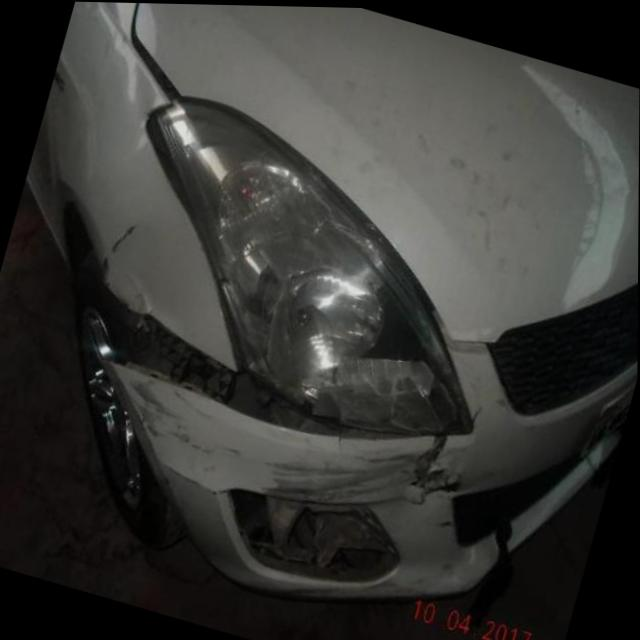Car-Damage: (175, 110, 539, 432), (81, 283, 448, 468), (213, 469, 415, 602), (252, 411, 444, 541), (117, 382, 258, 465), (410, 427, 475, 507)
